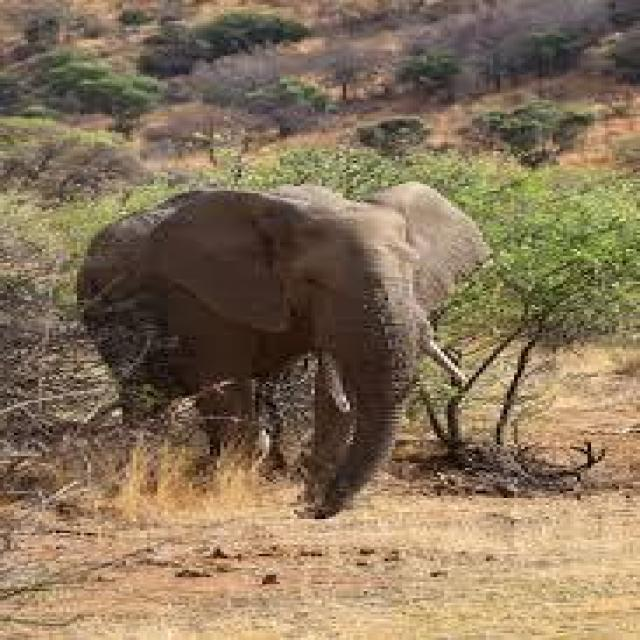Elephant: (73, 186, 490, 514)
